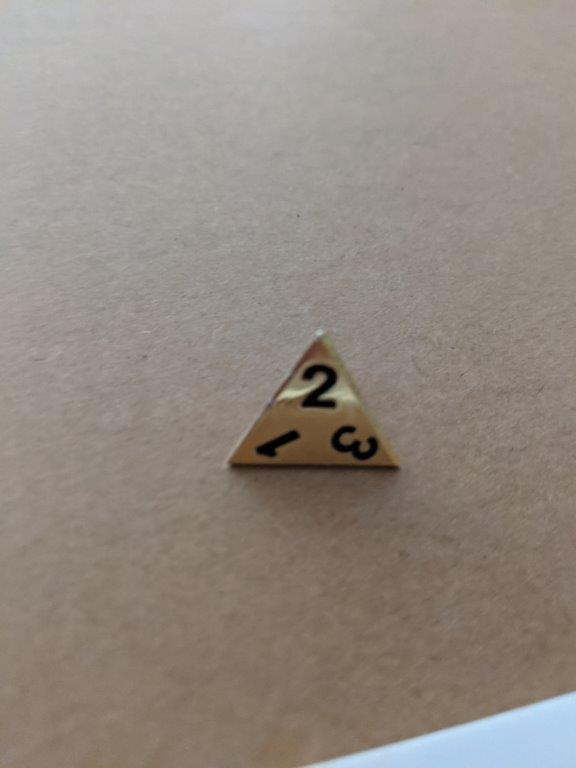d4-2: (226, 322, 401, 479)
